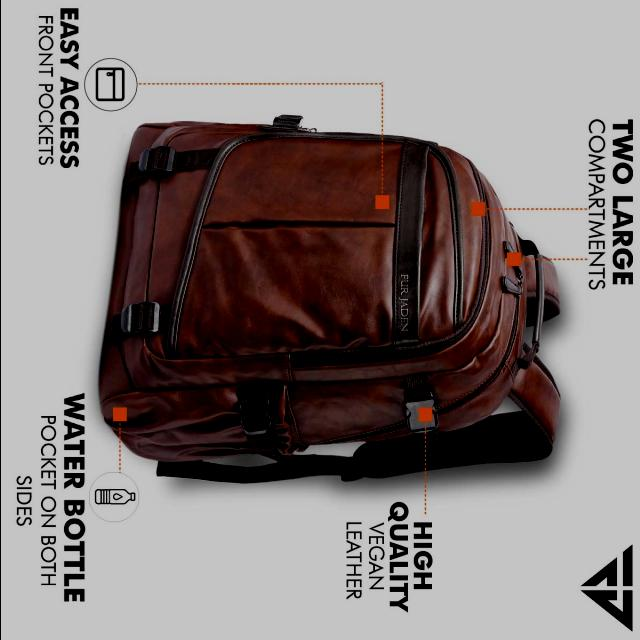backpack: (99, 116, 563, 485)
